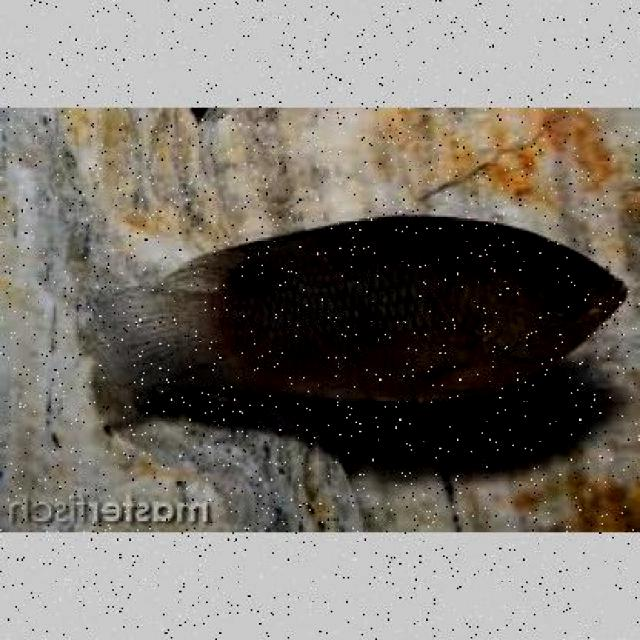gurame: (104, 217, 628, 411)
